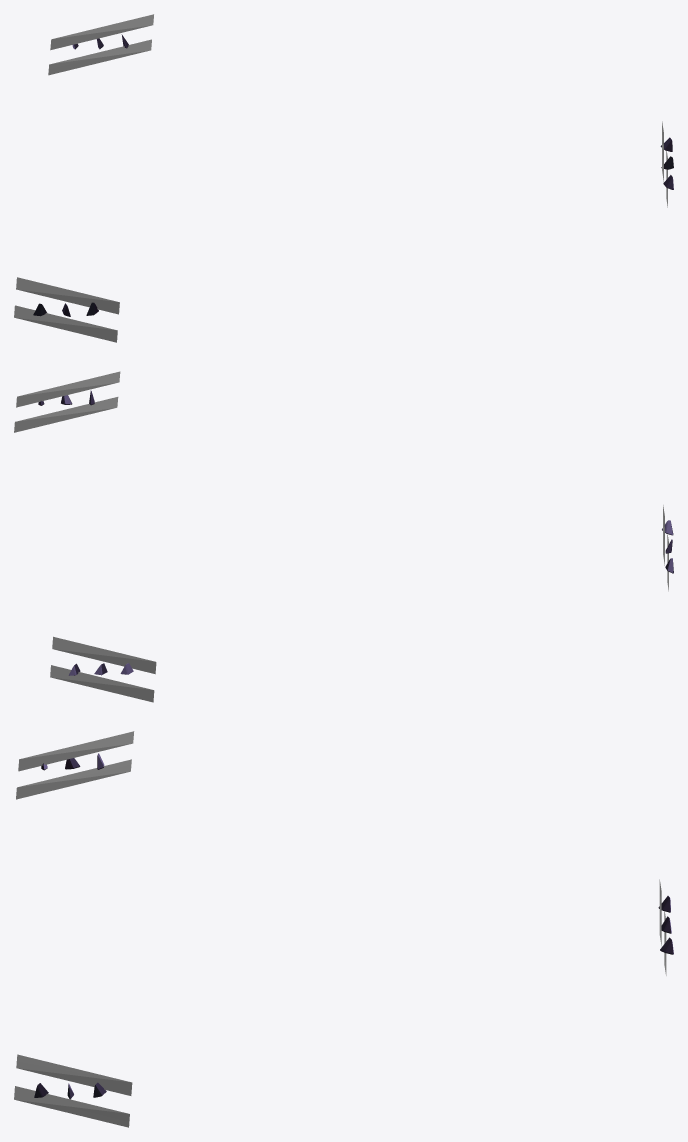
The model's file is vein_rock_c_mined_obsidian.glb.
The picture shows the model from 3 angles, top to bottom: view 1: azimuth 30°, elevation 25°; view 2: azimuth 150°, elevation 25°; view 3: azimuth 270°, elevation 25°; orthographic projection. The views are drawn at different scales.
Size of the model in its own units: 1.4 by 0.0782 by 1.09.
